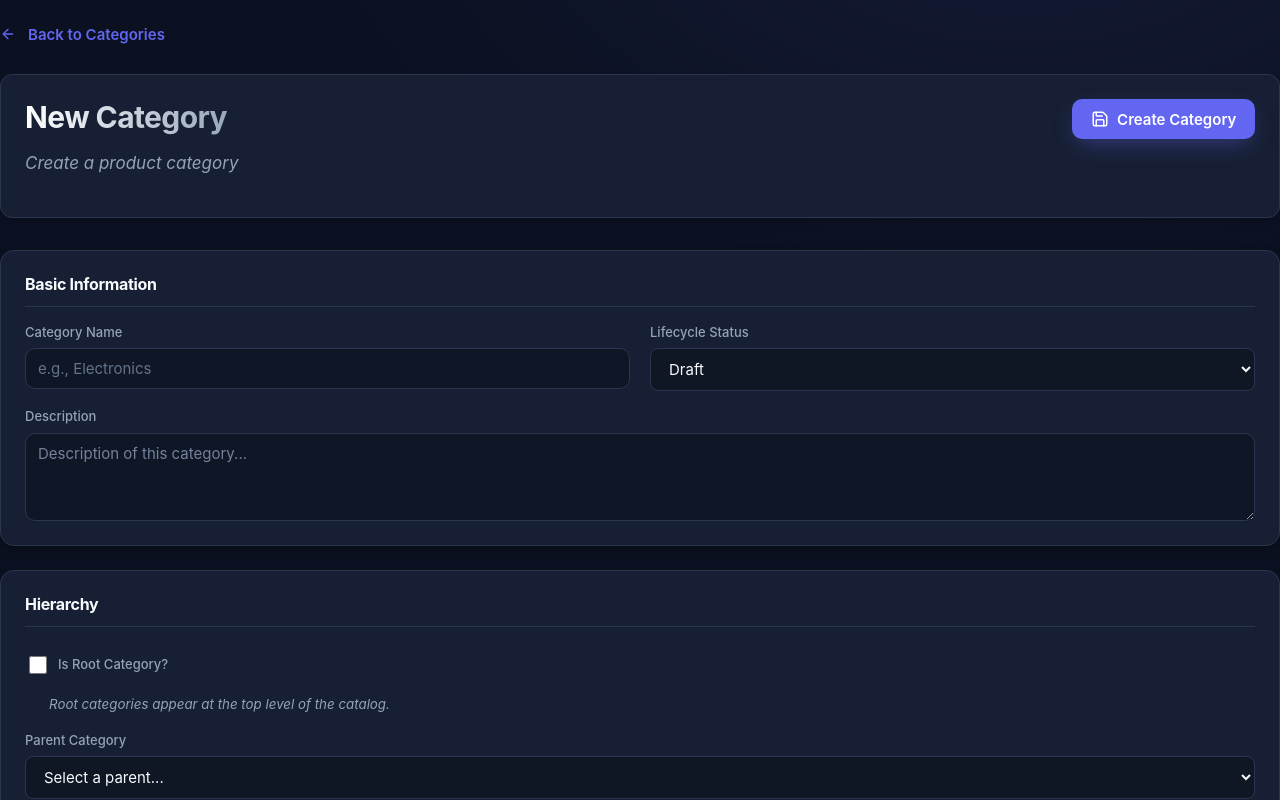
Test: CategoryEditPage › shows the error message from a failed save
Type "X" into the field labelled "Category Name".
click(328, 369); type("X")  # box [25, 348, 630, 389]
(page scrolled)
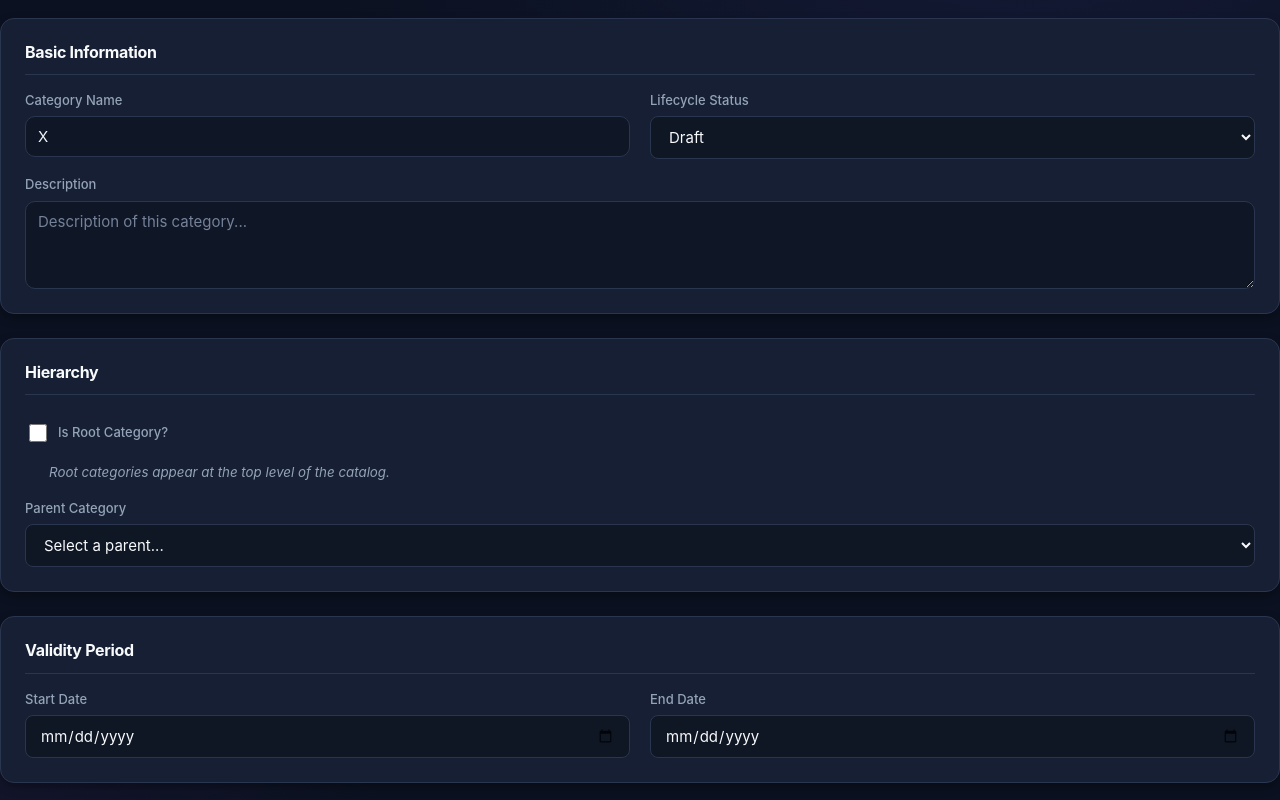
Submit the form with id "category-form"
(page scrolled)
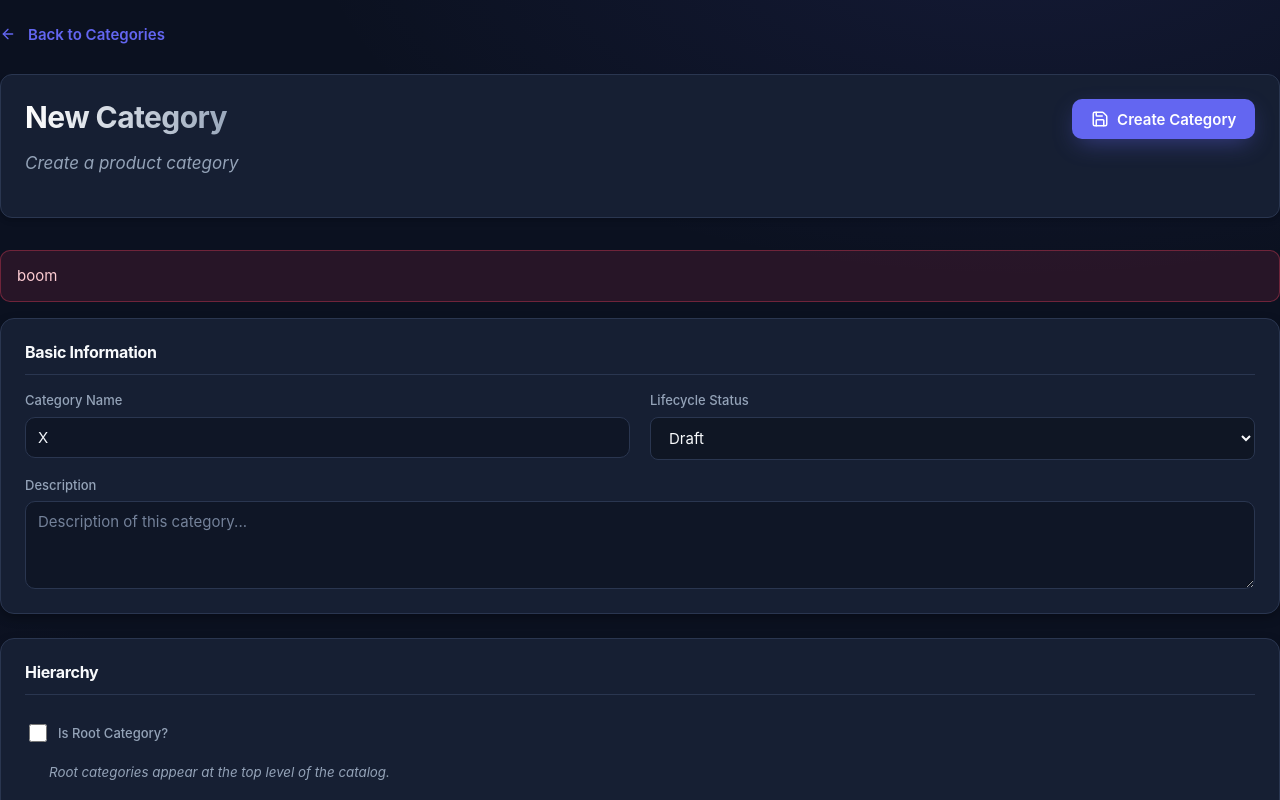
Expected: the text "boom" is shown, [0, 250, 1279, 302]
